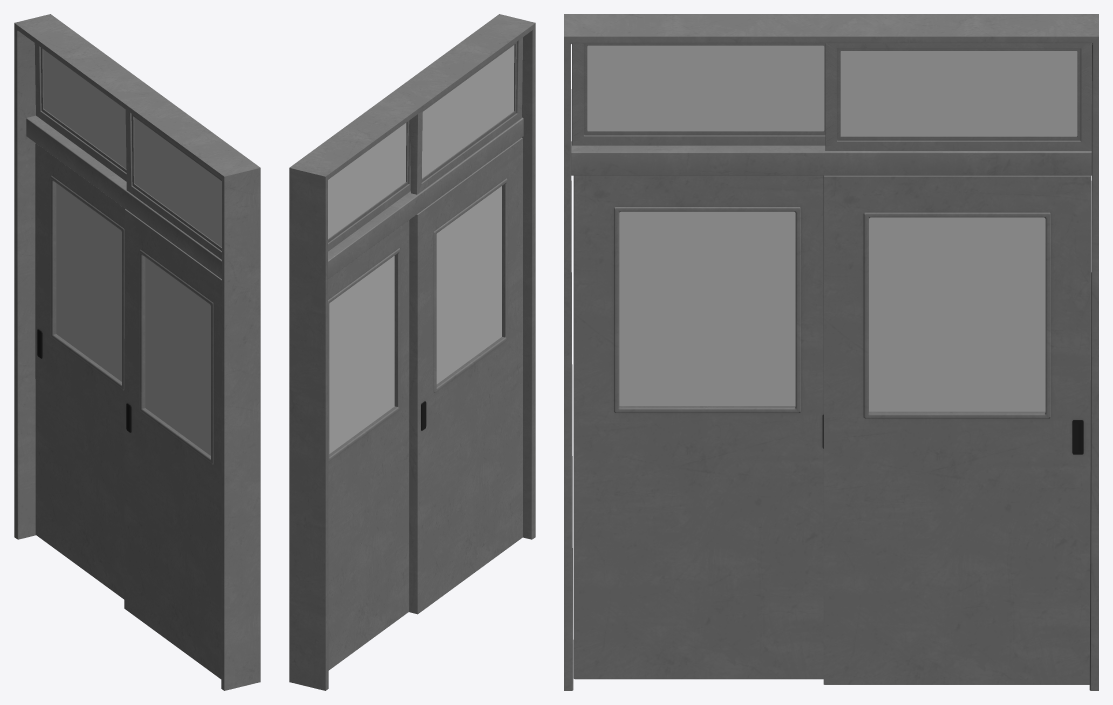
File: SM_Partition_01.fbx
The picture shows the model from 3 angles, left to right: view 1: azimuth 30°, elevation 25°; view 2: azimuth 150°, elevation 25°; view 3: azimuth 270°, elevation 25°; orthographic projection. The views are drawn at different scales.
Parts seen in each view (by area): view 1: SM_Partition_01_LOD0; view 2: SM_Partition_01_LOD0; view 3: SM_Partition_01_LOD0.
Boxes of the visible parts, x1,y1,x2,y2 form: SM_Partition_01_LOD0: [14, 14, 260, 690]; SM_Partition_01_LOD0: [289, 14, 535, 690]; SM_Partition_01_LOD0: [564, 14, 1098, 690].
Bounding box in the file's own units: 20 × 200 × 270.
